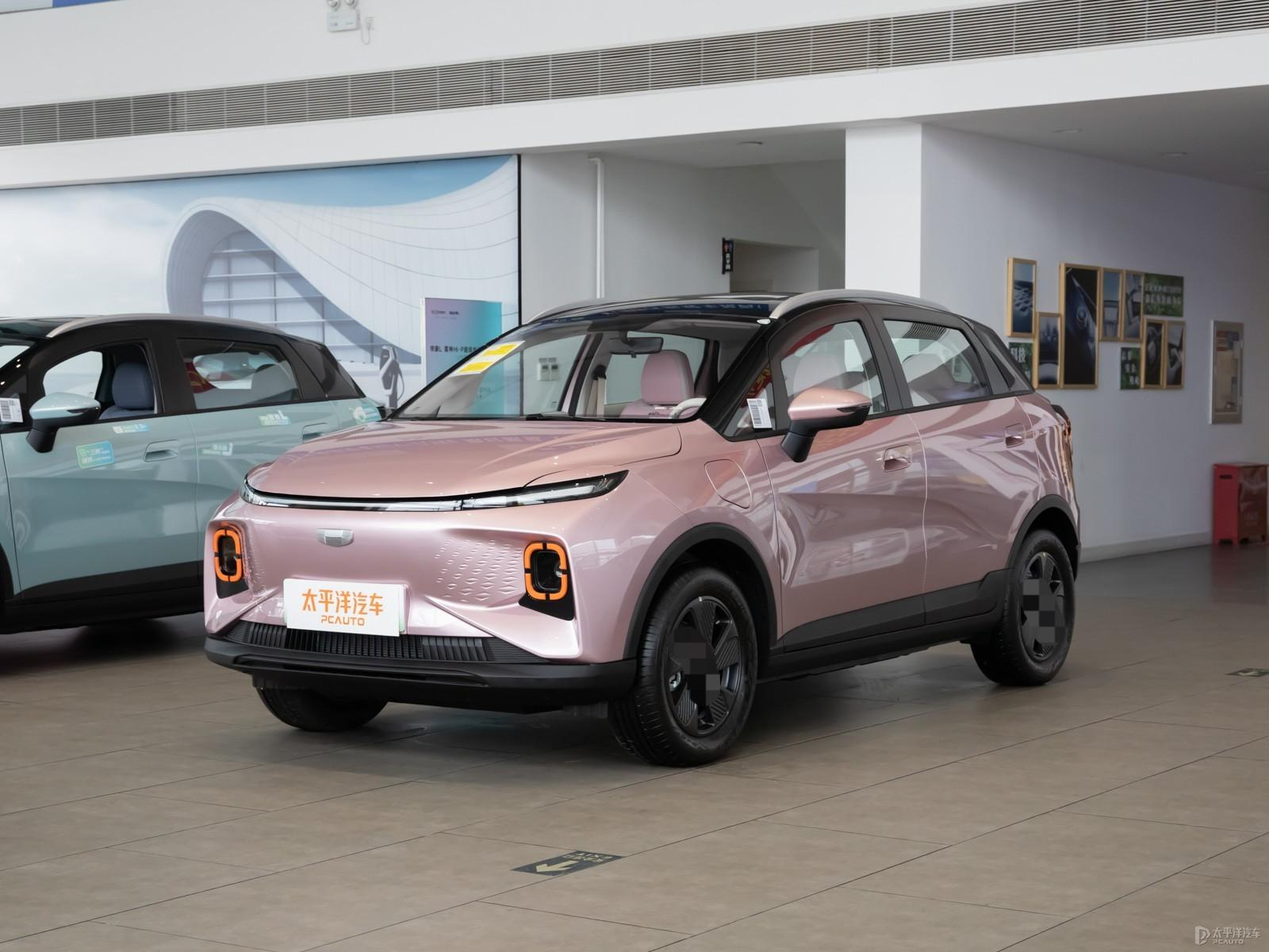GEOMETRY: (317, 530, 353, 546)
